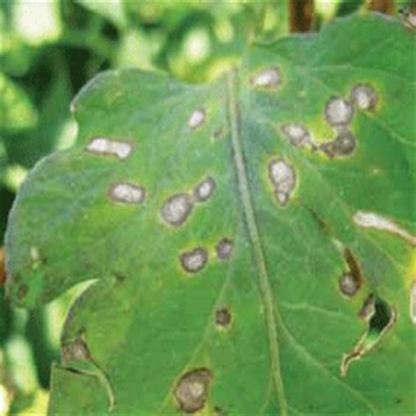black-spot: (86, 89, 416, 416)
